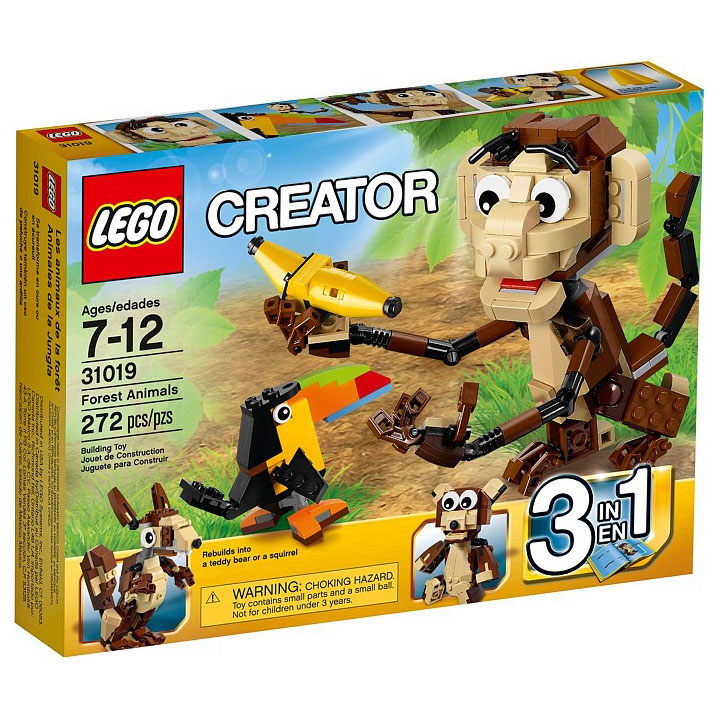LEGO: (73, 160, 204, 293), (41, 157, 65, 224)
